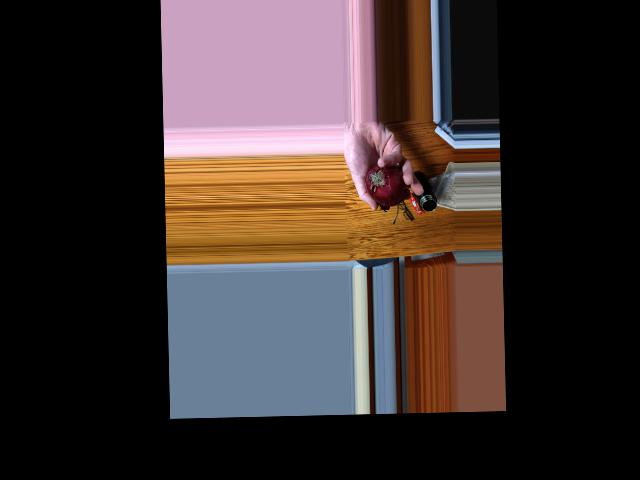onion: (365, 163, 404, 205)
